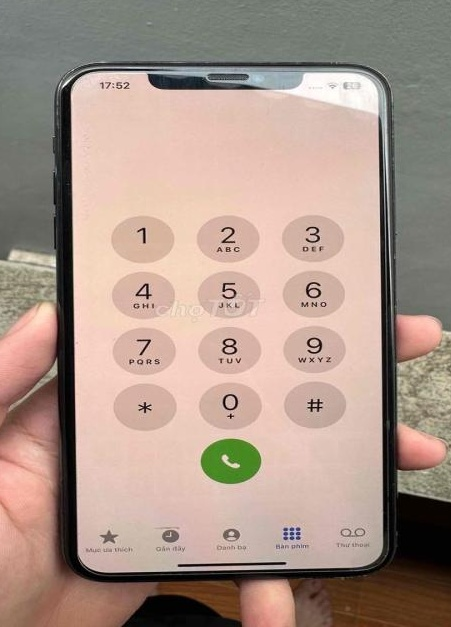scratch: (64, 52, 398, 79), (38, 92, 73, 200), (352, 564, 379, 580), (371, 548, 393, 564)
